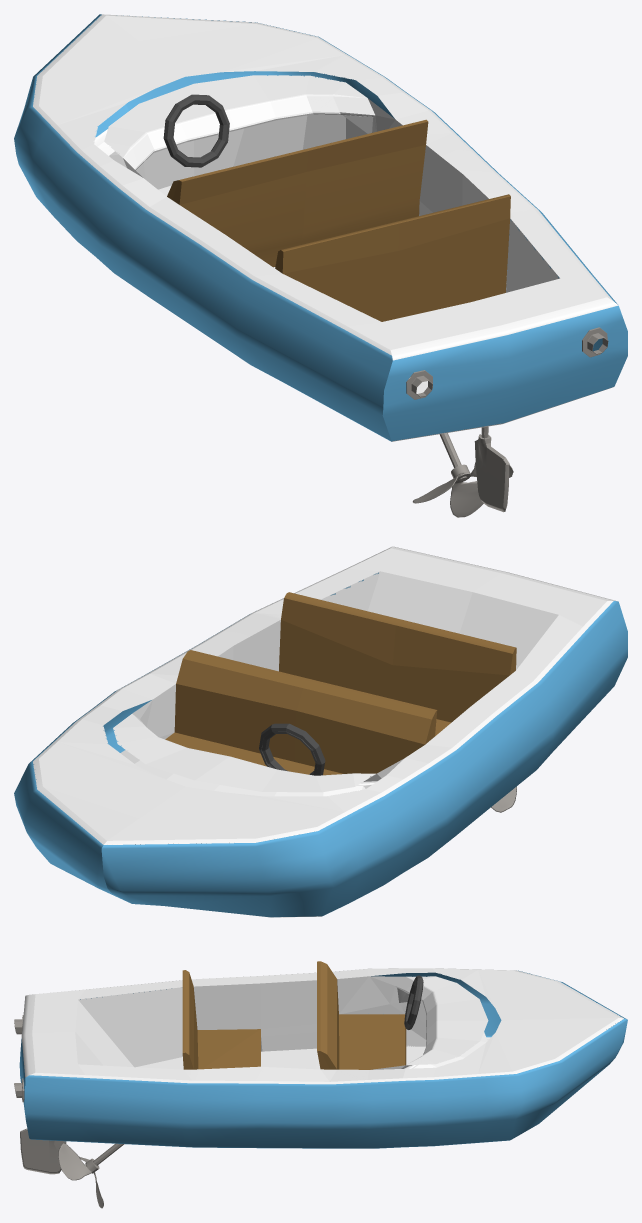
Rendered from boat2.fbx.
3 views of the same model, one above another, from view 1: azimuth 30°, elevation 25°; view 2: azimuth 150°, elevation 25°; view 3: azimuth 270°, elevation 25° (orthographic). The views are drawn at different scales.
Visible parts, largest first — view 1: boat_hull, boat_rudder, boat_propeller, boat_steeringWheel; view 2: boat_hull, boat_steeringWheel; view 3: boat_hull, boat_rudder, boat_propeller, boat_steeringWheel.
Part boxes in pixels (x1=…): boat_hull: x1=14, y1=14, x2=627, y2=441; boat_rudder: x1=474, y1=426, x2=509, y2=512; boat_propeller: x1=412, y1=433, x2=513, y2=517; boat_steeringWheel: x1=163, y1=94, x2=229, y2=167; boat_hull: x1=14, y1=546, x2=627, y2=917; boat_steeringWheel: x1=259, y1=723, x2=325, y2=775; boat_hull: x1=14, y1=961, x2=627, y2=1148; boat_rudder: x1=20, y1=1128, x2=66, y2=1174; boat_propeller: x1=58, y1=1143, x2=124, y2=1208; boat_steeringWheel: x1=404, y1=975, x2=423, y2=1029.
Bounding box in the file's own units: 125 × 105 × 258.
1 material, 1 textured.
